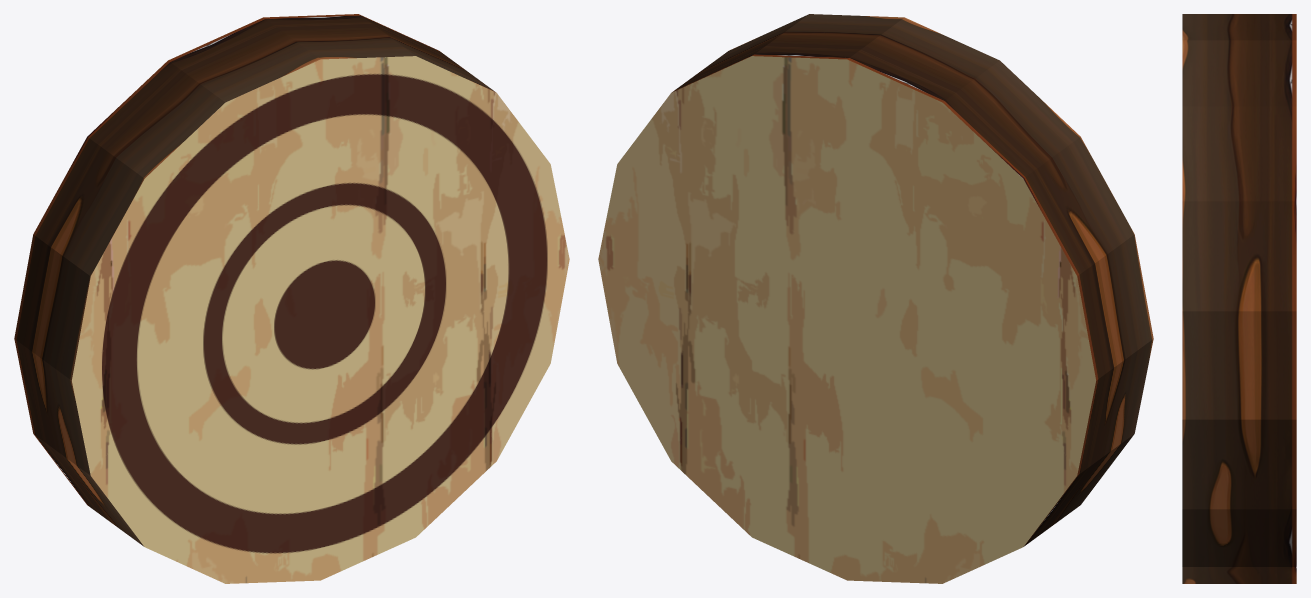
The model's file is Mato.fbx.
3 views of the same model, side by side, from view 1: azimuth 30°, elevation 25°; view 2: azimuth 150°, elevation 25°; view 3: azimuth 270°, elevation 25° (orthographic).
Visible parts, largest first — view 1: Btn; view 2: Btn; view 3: Btn.
Part boxes in pixels (x1,y1,x2,y2): Btn: (14, 14, 569, 583); Btn: (598, 14, 1153, 583); Btn: (1182, 14, 1296, 583).
Size of the model in its own units: 50 by 50 by 10.
Materials: 1 (1 with a texture image).
